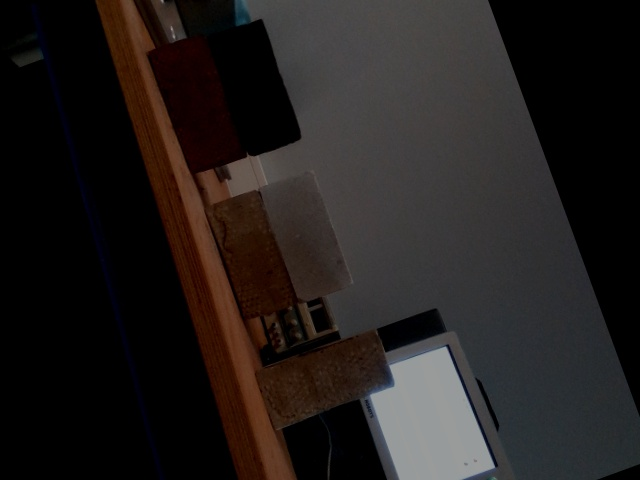brick: (254, 330, 397, 430), (151, 33, 245, 173), (209, 20, 301, 155), (261, 173, 351, 302), (204, 191, 294, 320)
